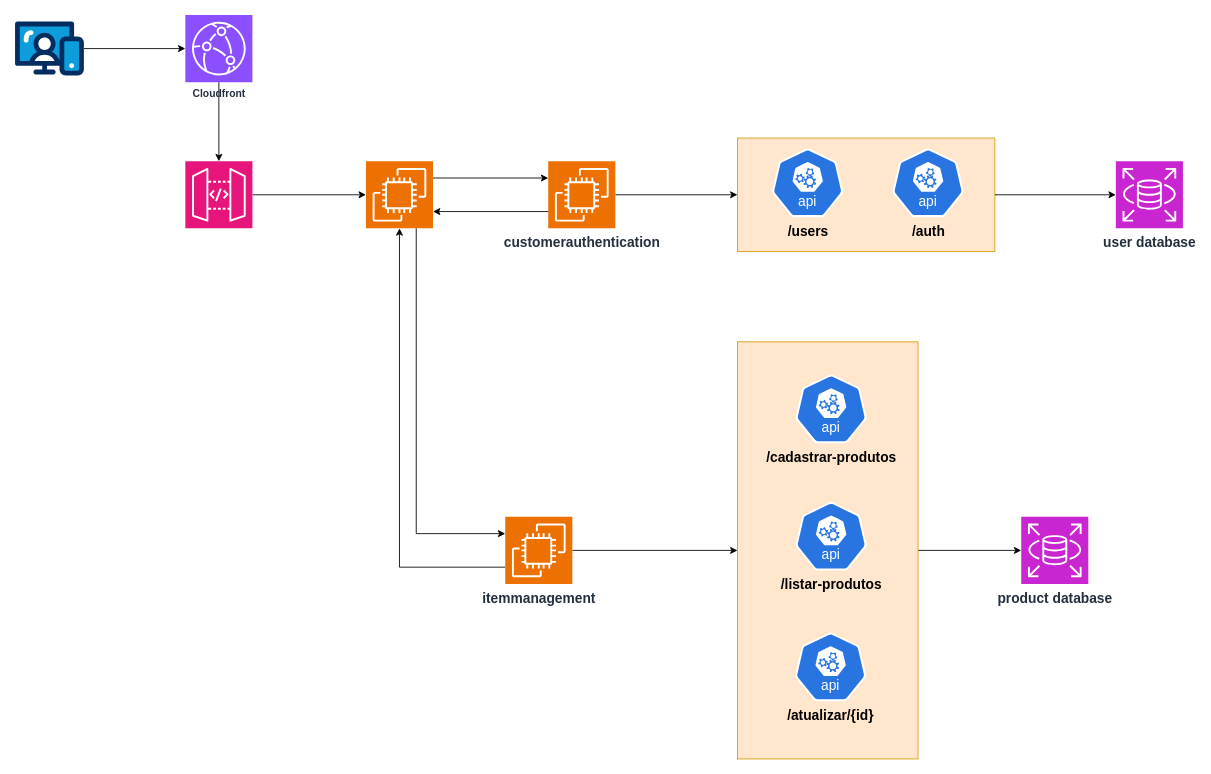
The diagram is 1211 pixels wide and 774 high, and some of its shapes have lost their labels. The centre of each missing label's shape, as x and y in pixels:
"API-GATEWAY" belongs at (x=218, y=194).
"BFF-Ecommerce" belongs at (x=399, y=194).
